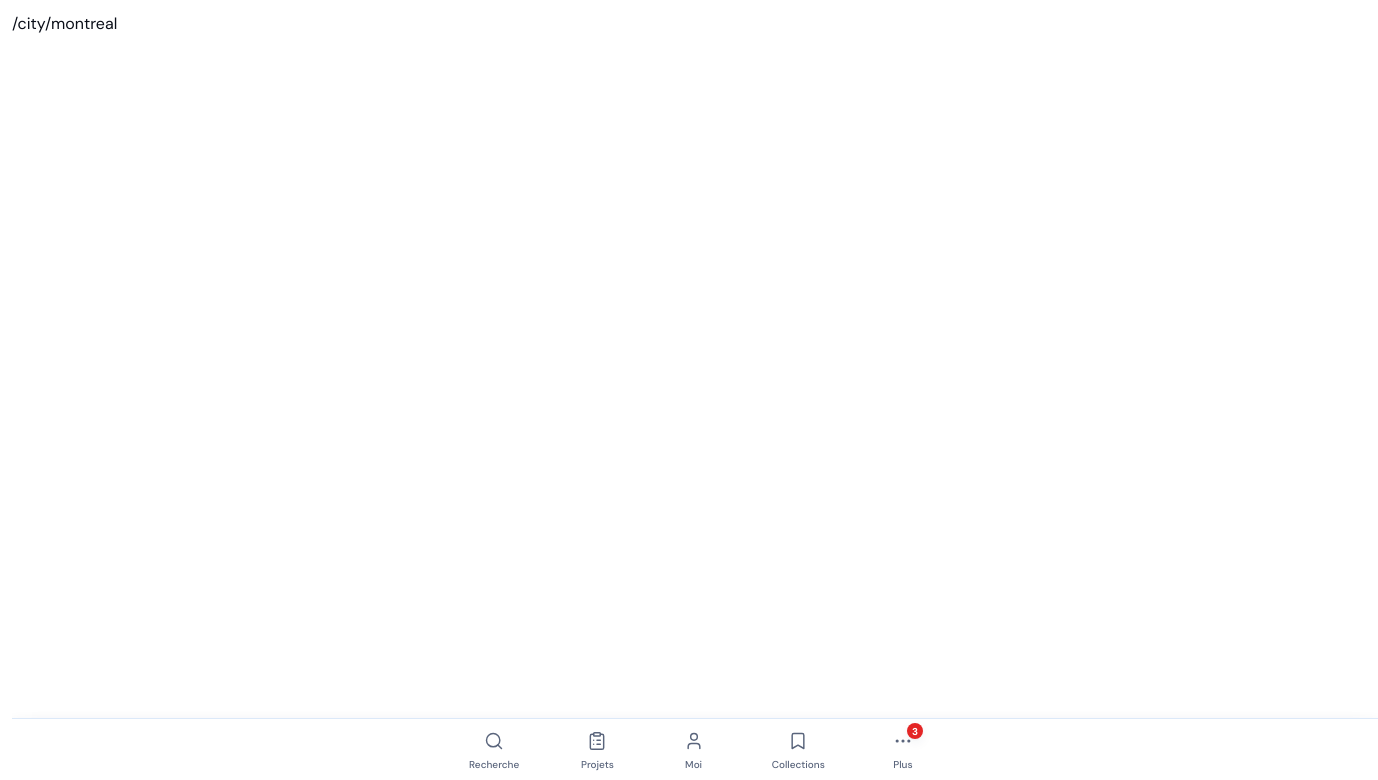
Test: owned QMAPS account navigation › opens the owned account from Moi and keeps notifications on Plus
The width and height of the screenshot is (1378, 780).
Expected: the button with aria-label "Plus" shows "3", [873,719,933,779]
Step 1. Click the button with aria-label "Moi" → (694, 750), box [664,719,724,779]
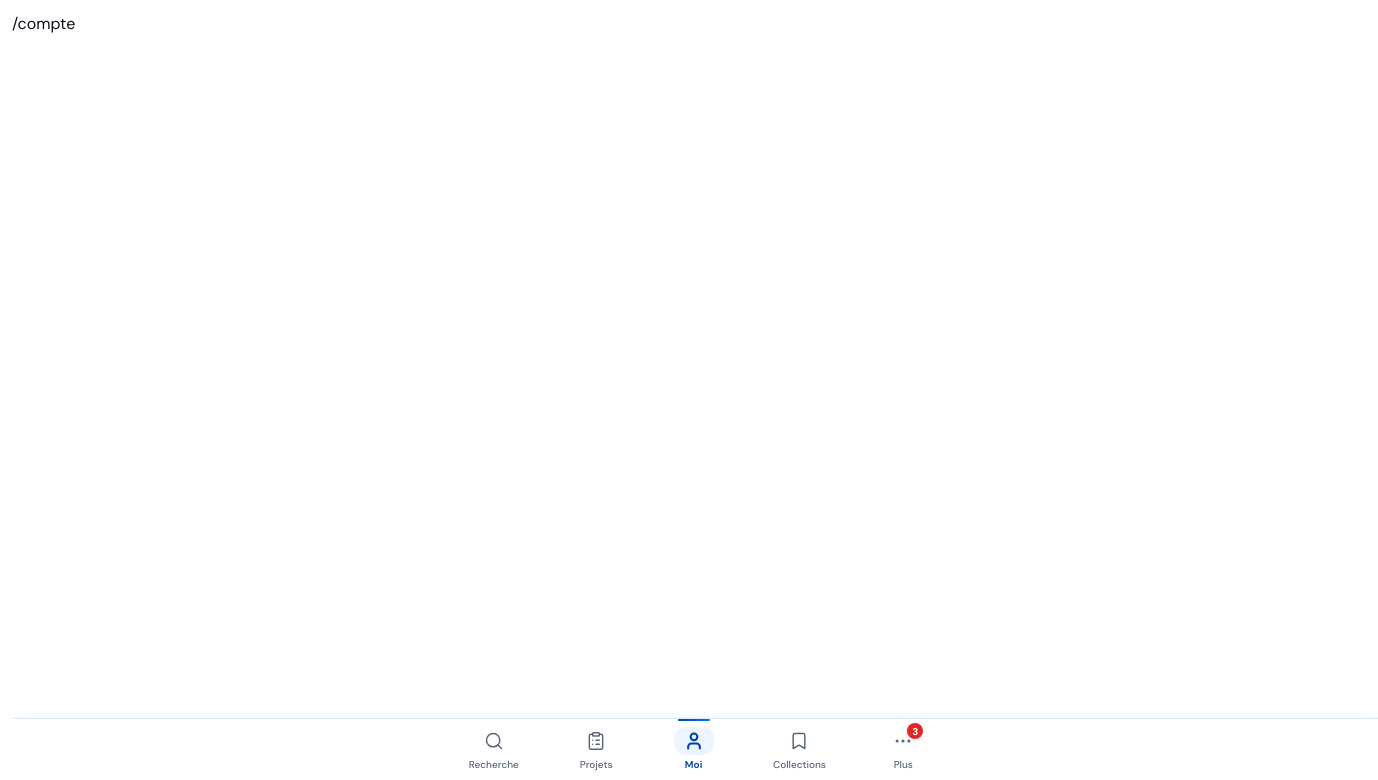
Result: the text "/compte" is shown at [12,13,75,34]
